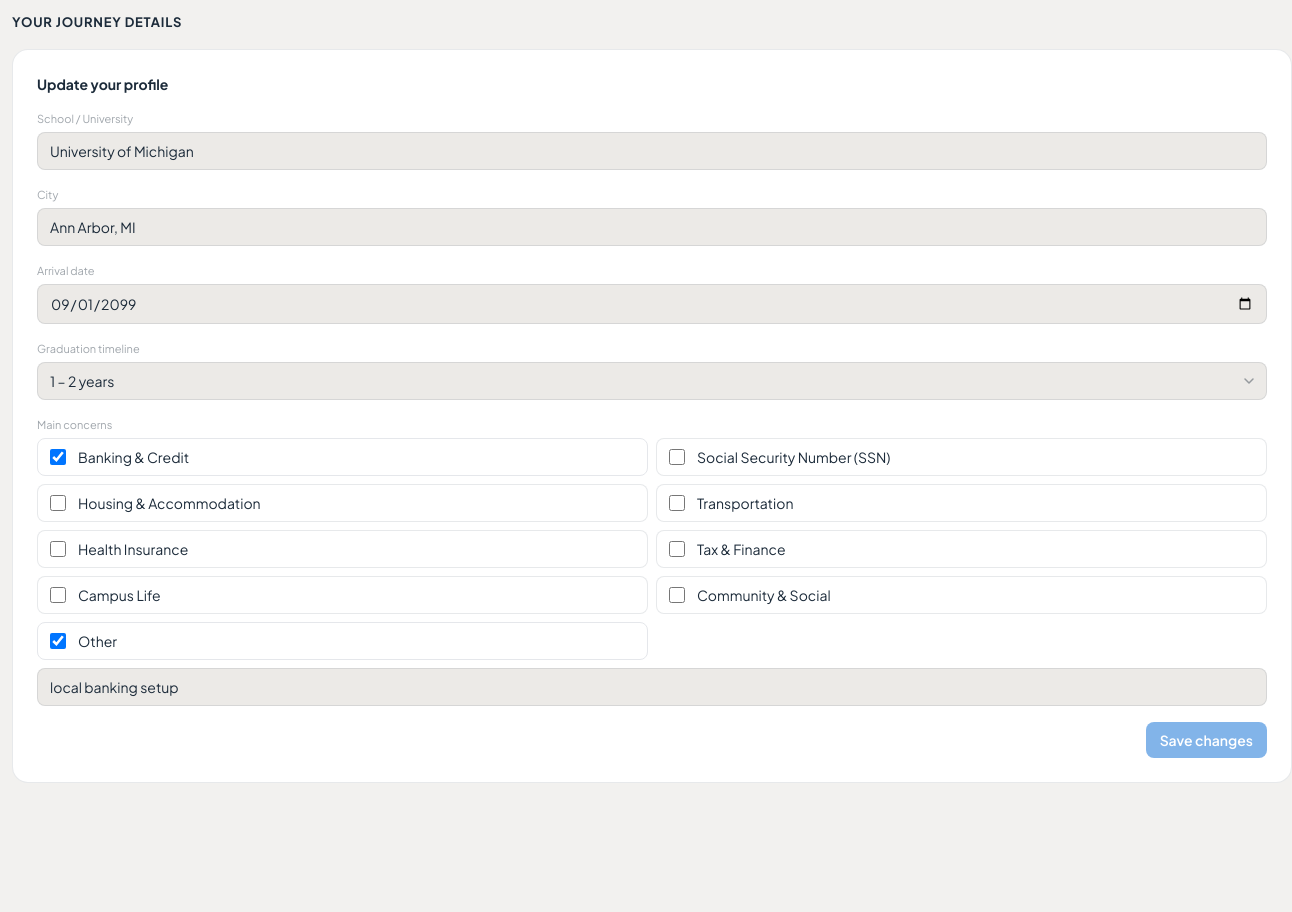
Test: IntakeEditSection › shows an error message when updateIntake returns an error
The image size is (1292, 912).
Replace the text in the field labelled "School / University" with "New School" at (652, 151), box [37,132,1267,170]
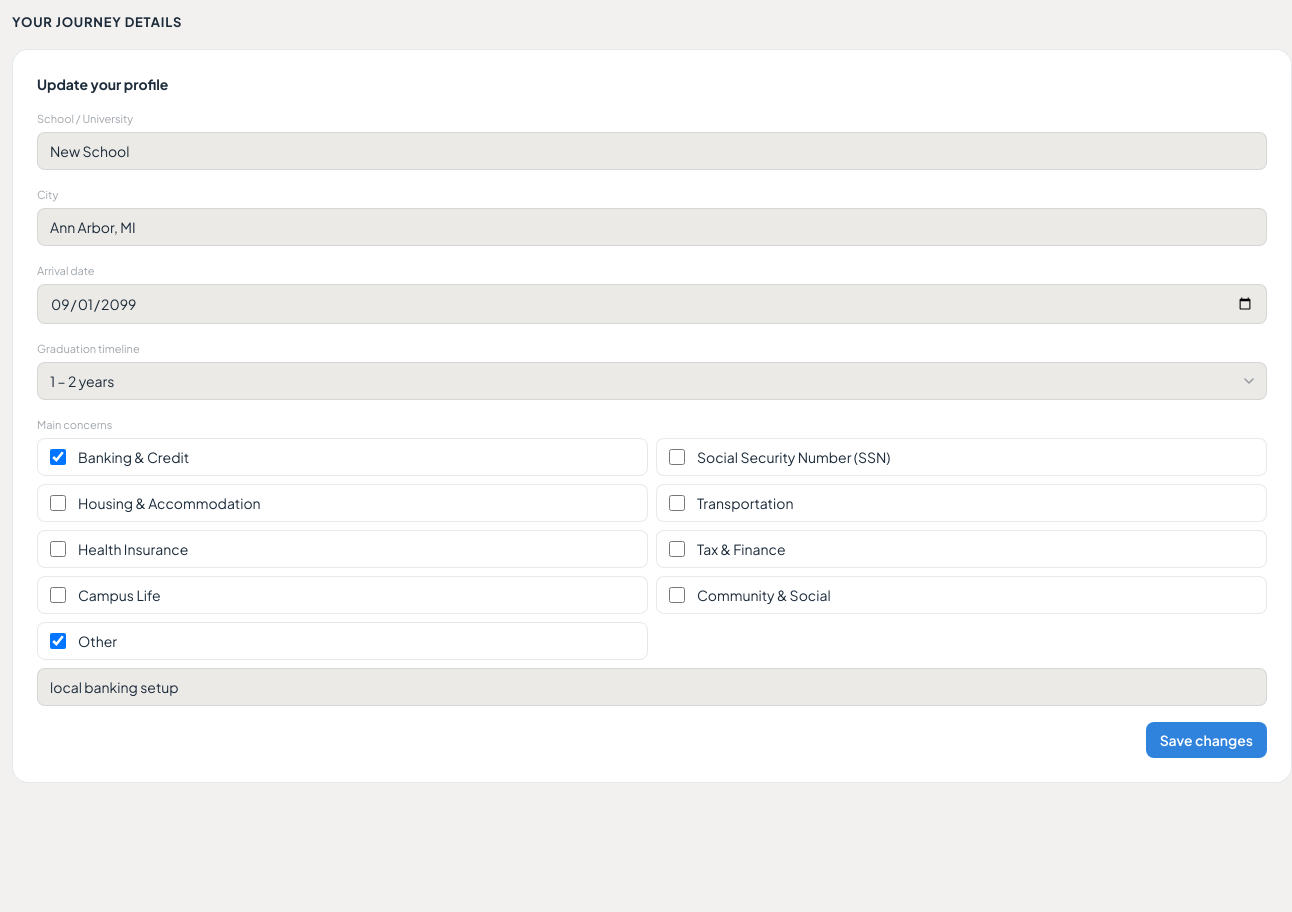
Click the button "Save changes" at (1206, 740), box [1146,722,1267,758]
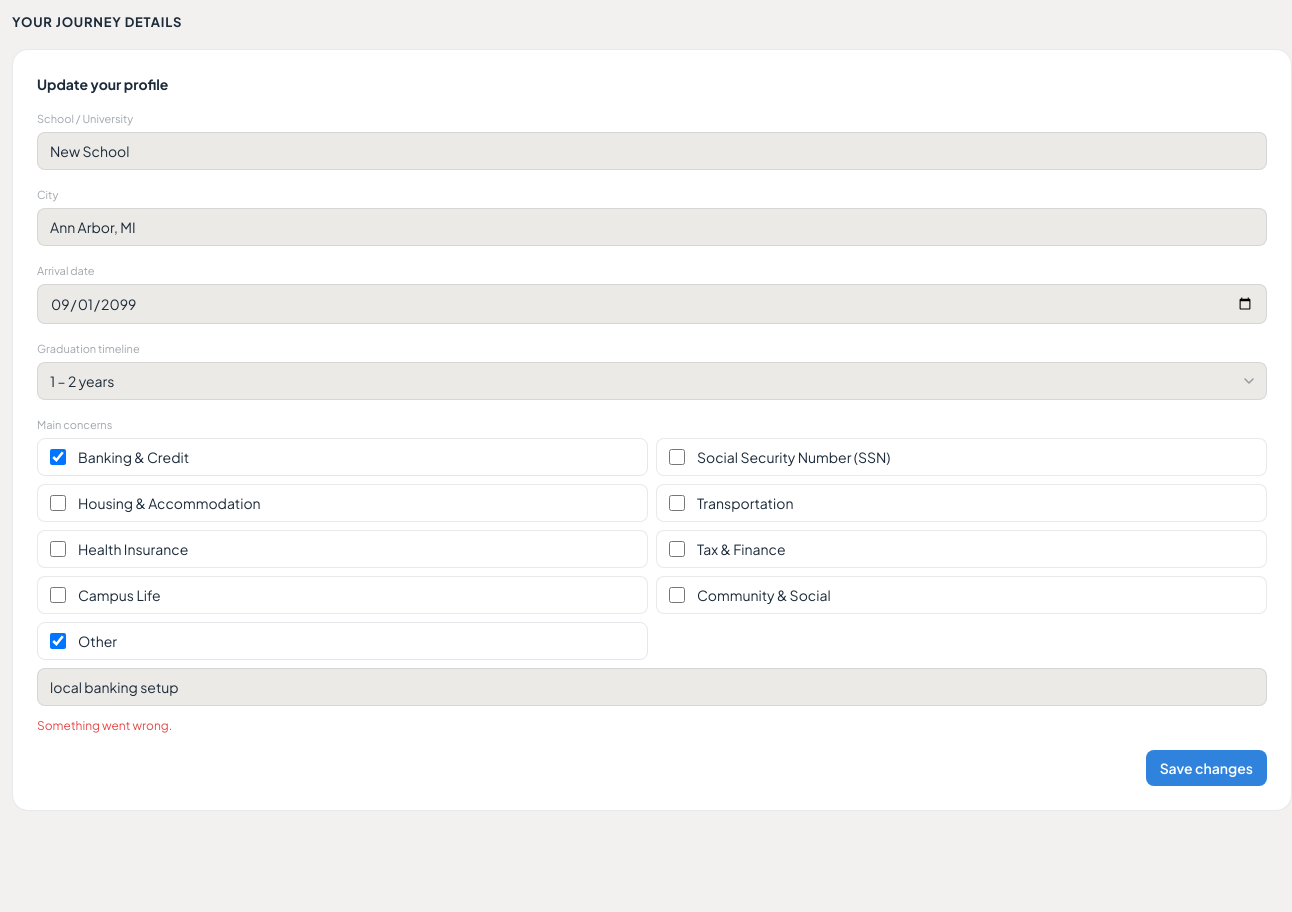
expect the text "Something went wrong." is shown: met, box [37,718,172,732]
